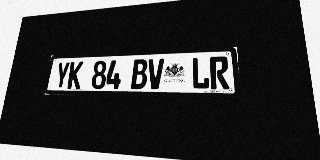4: (105, 60, 122, 89)
8: (91, 60, 108, 89)
B: (131, 59, 148, 89)
K: (67, 61, 83, 89)
L: (191, 57, 210, 89)
R: (210, 56, 230, 89)
V: (147, 58, 164, 89)
Y: (54, 62, 70, 89)
